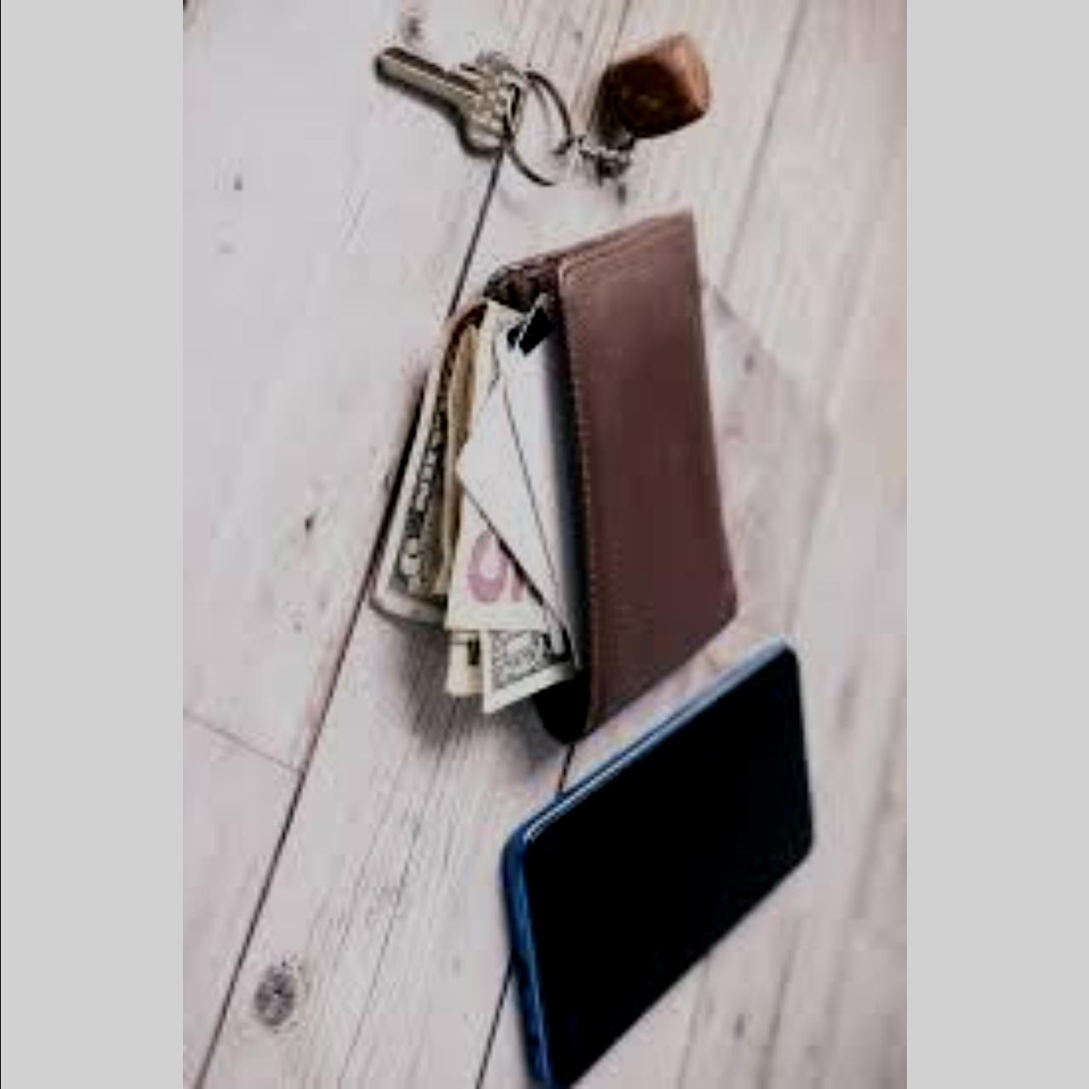wallet: (343, 202, 767, 749)
